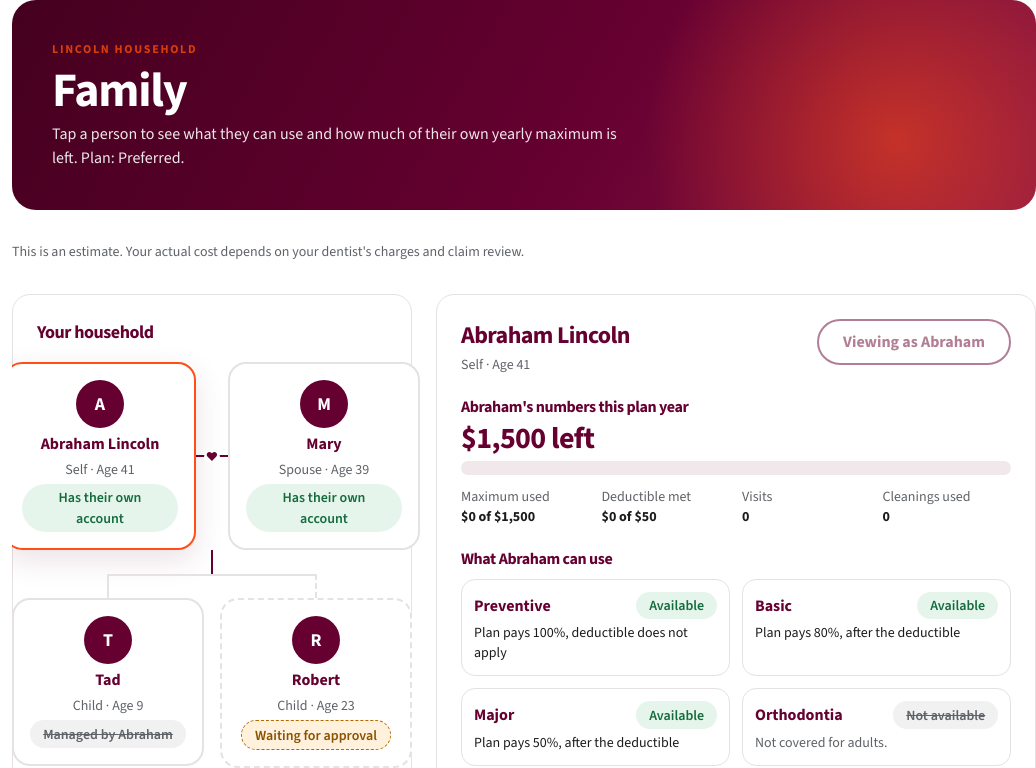
Family page › shows each person's own numbers, not a household total
Click the button with test id "node-m-alex" at (324,456), box [228,362,420,550]
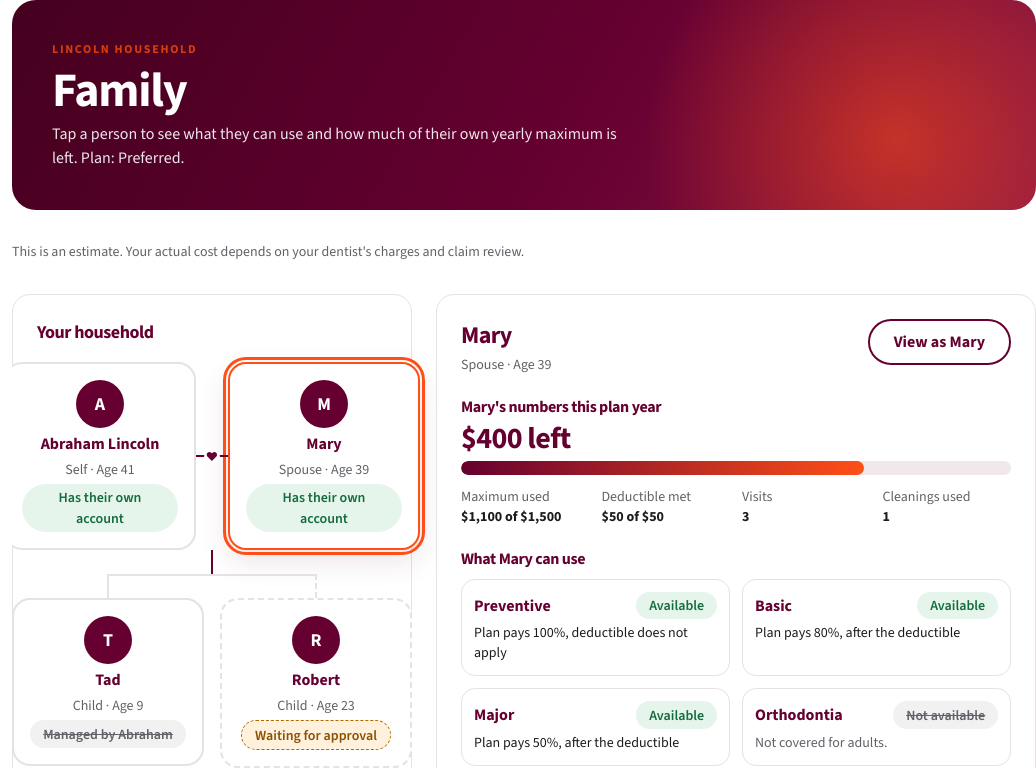
Check: the text with test id "max-left" reads "$400 left", box [461,418,571,458]
Check: the text with test id "max-used" reads "$1,100 of $1,500", box [461,507,561,526]
Check: the text with test id "deductible" reads "$50 of $50", box [602,507,664,526]
Click the button with test id "node-m-maya" at (108,682), box [12,598,204,766]
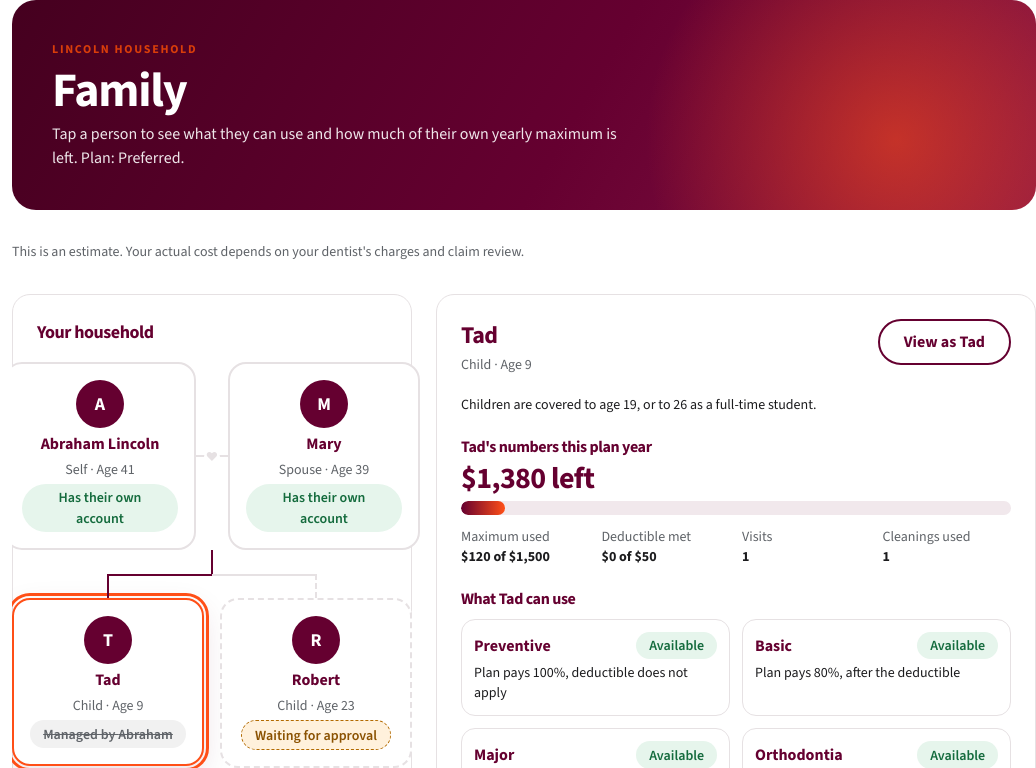
Check: the text with test id "max-left" reads "$1,380 left", box [461,458,594,498]
Check: the text with test id "max-used" reads "$120 of $1,500", box [461,547,550,566]
Check: the text "covered to age 19, or to 26 as a full-time student" is shown, box [461,395,816,414]
